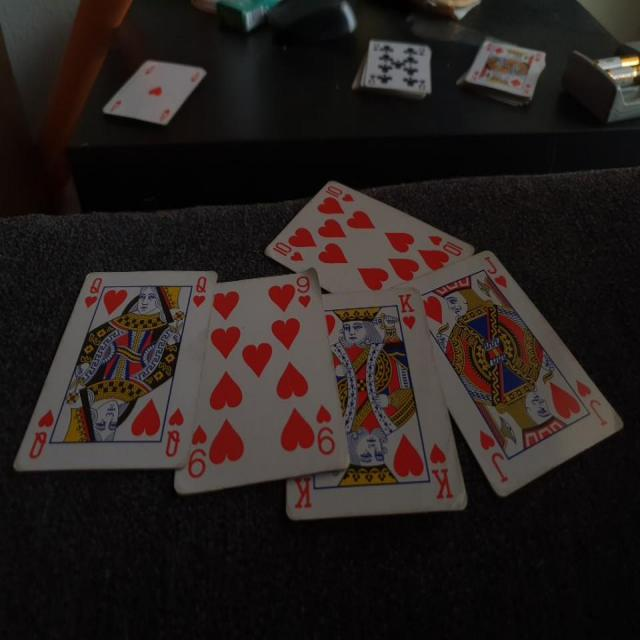10 Hearts: (264, 168, 485, 295)
9 Hearts: (161, 269, 352, 498)
J Hearts: (401, 250, 628, 501)
K Hearts: (277, 295, 467, 519)
Q Hearts: (15, 258, 218, 476)
